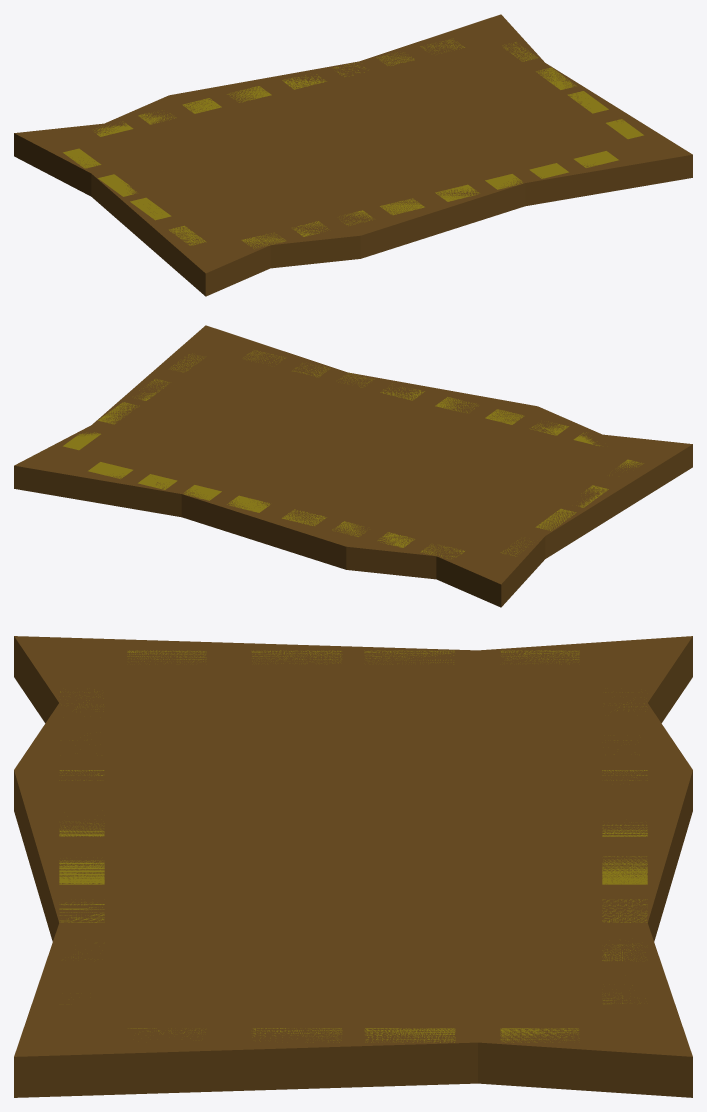
3 views of the same model, one above another, from view 1: azimuth 30°, elevation 25°; view 2: azimuth 150°, elevation 25°; view 3: azimuth 270°, elevation 25° (orthographic). The views are drawn at different scales.
Size of the model in its own units: 88 by 4 by 60.
Materials: 1 (1 with a texture image).
